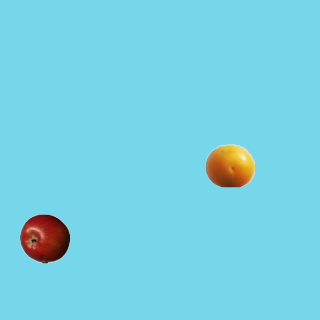Apple Braeburn: (19, 213, 69, 263)
Cherry Wax Yellow: (204, 140, 254, 190)
